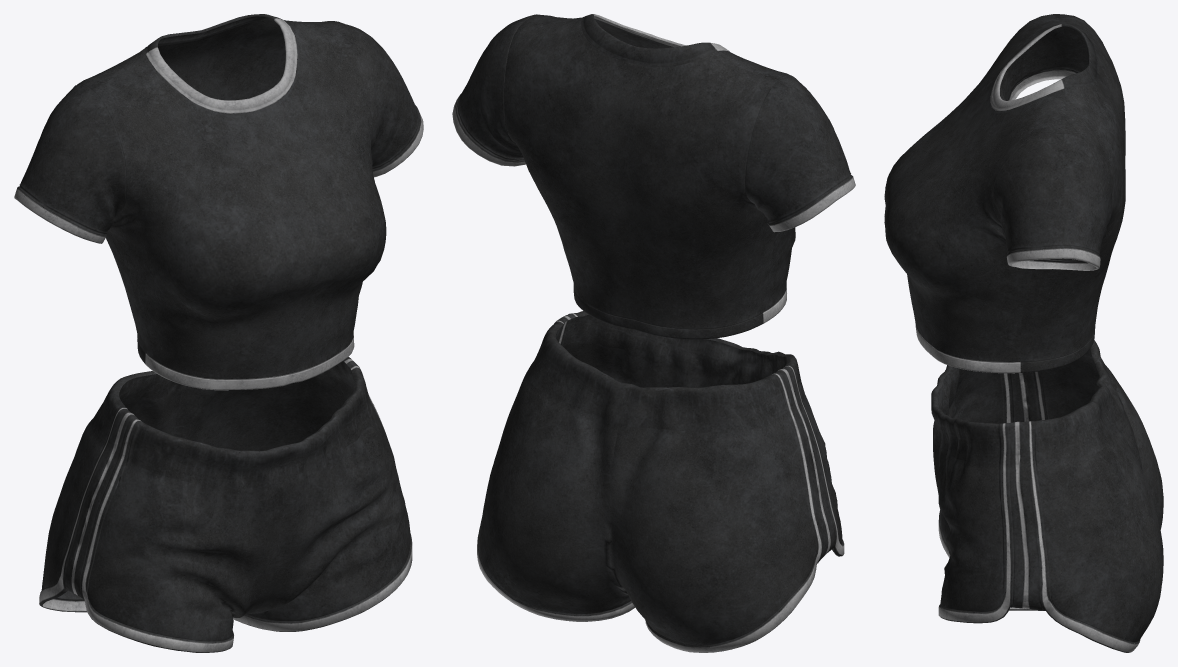
File: dolphin_pants_set_female.glb
3 renders of one model, left to right at view 1: azimuth 30°, elevation 25°; view 2: azimuth 150°, elevation 25°; view 3: azimuth 270°, elevation 25°, orthographic. The views are drawn at different scales.
Visible parts, largest first — view 1: dolphin_low; view 2: dolphin_low; view 3: dolphin_low.
Part boxes in pixels (x1,y1,x2,y2): dolphin_low: (14, 14, 423, 652); dolphin_low: (452, 14, 855, 652); dolphin_low: (884, 14, 1163, 652).
Bounding box in the file's own units: 0.6901 × 0.9954 × 0.4483.
Materials: 1 (1 with a texture image).
